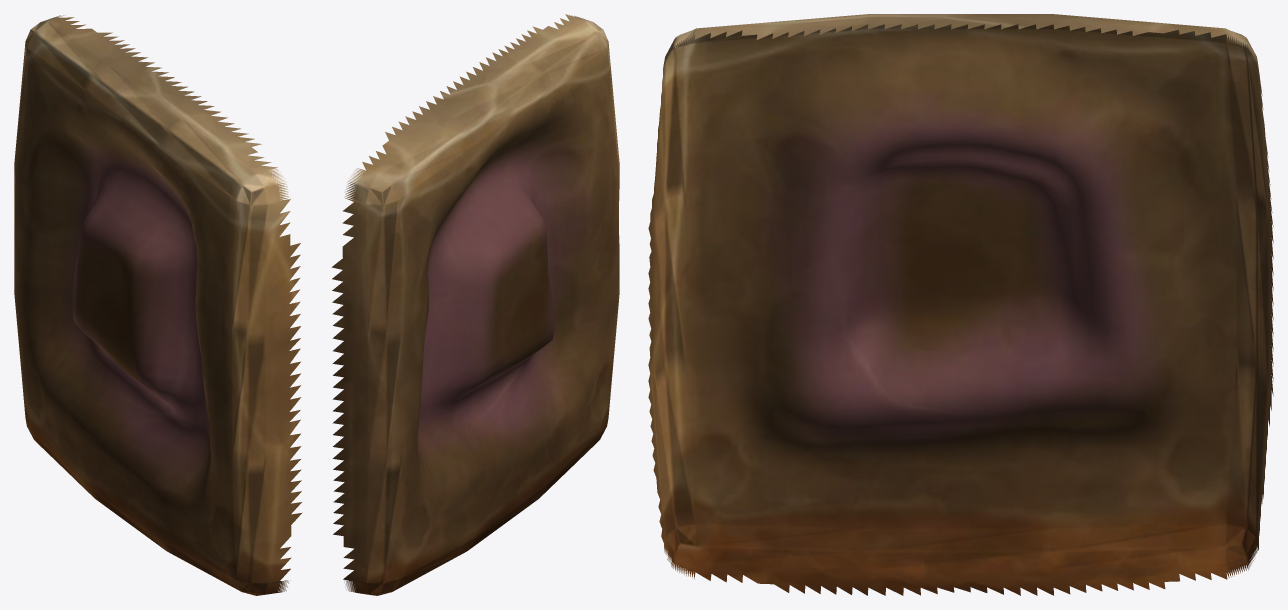
Rendered from squareHint.glb.
3 renders of one model, left to right at view 1: azimuth 30°, elevation 25°; view 2: azimuth 150°, elevation 25°; view 3: azimuth 270°, elevation 25°, orthographic. The views are drawn at different scales.
Parts seen in each view (by area): view 1: Cube; view 2: Cube; view 3: Cube.
Part boxes in pixels (x1,y1,x2,y2): Cube: (14,15,302,595); Cube: (331,14,619,595); Cube: (648,14,1273,595).
Size of the model in its own units: 0.1707 by 1.01 by 1.01.
1 material, 1 textured.
